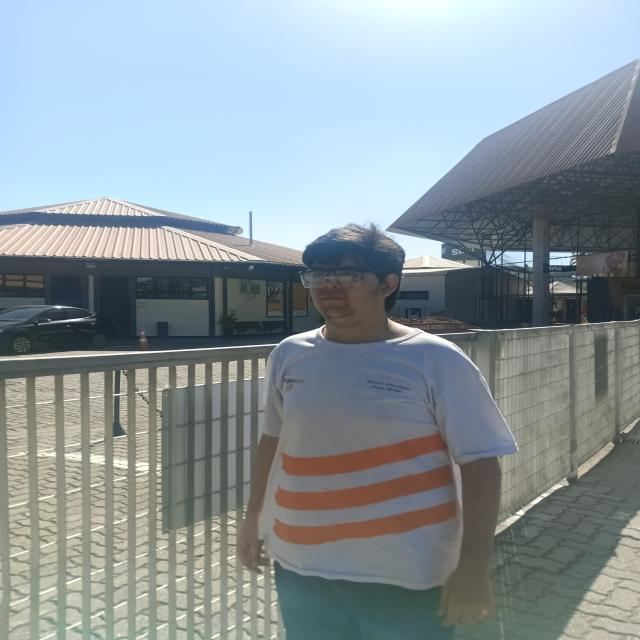oculos-epi: (296, 269, 385, 289)
